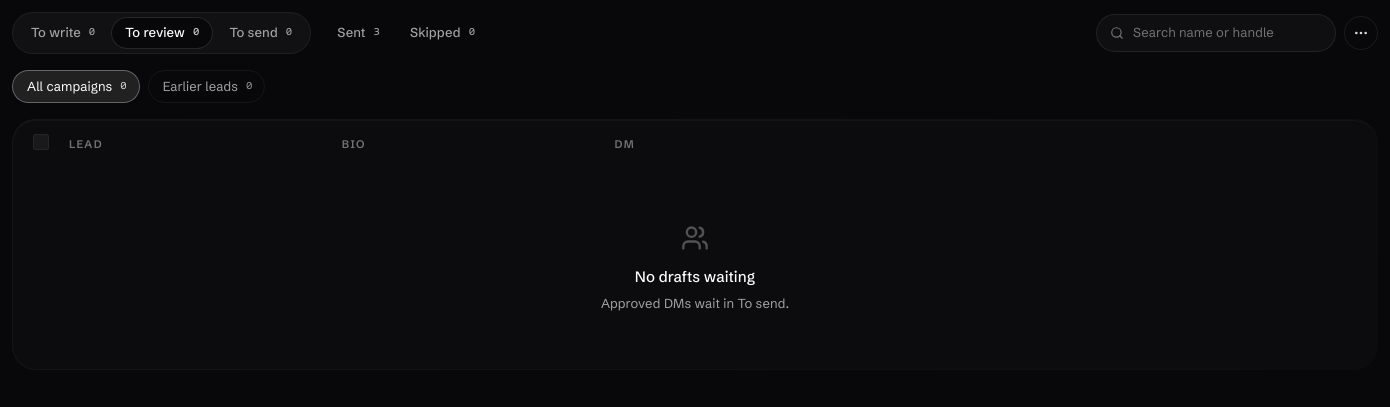
it: ApprovalQueue sending › says plainly when there is nothing approved to send
Click the tab "To send 0".
click(261, 33)  # box [215,17,306,48]
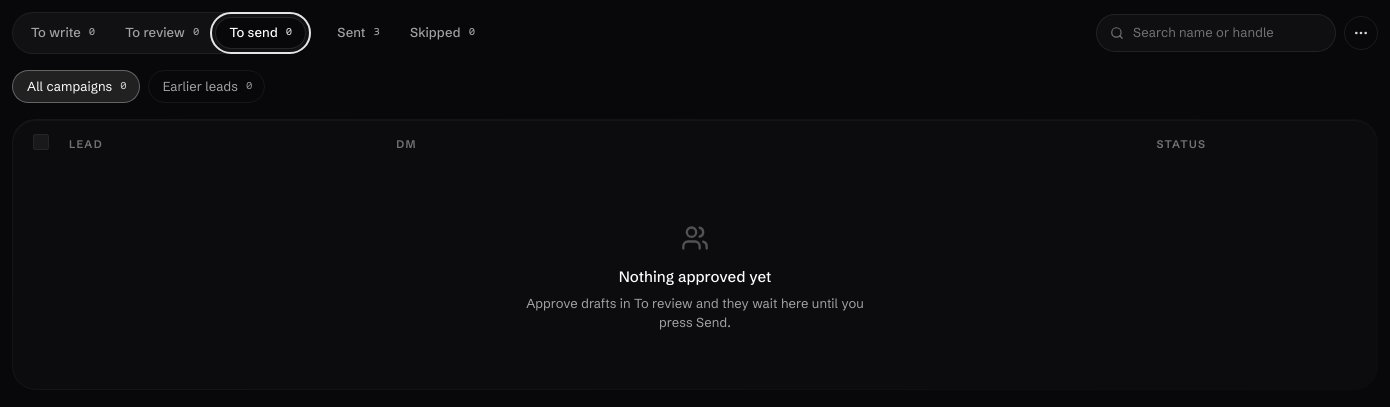
Result: the text "Nothing approved yet" is shown at [619,267,771,286]
